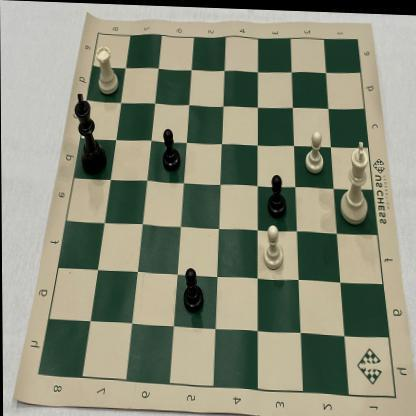black-king: (72, 90, 110, 176)
black-pawn: (159, 120, 186, 175), (265, 165, 289, 220), (180, 263, 205, 313)
white-king: (334, 134, 377, 228)
white-pawn: (260, 218, 287, 272), (301, 125, 328, 179)
white-rook: (94, 37, 123, 98)
